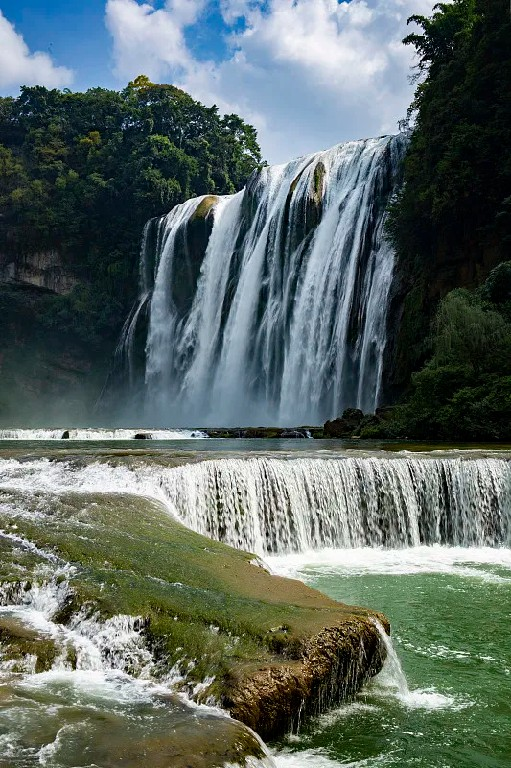Huangguoshu: (126, 136, 396, 428)
